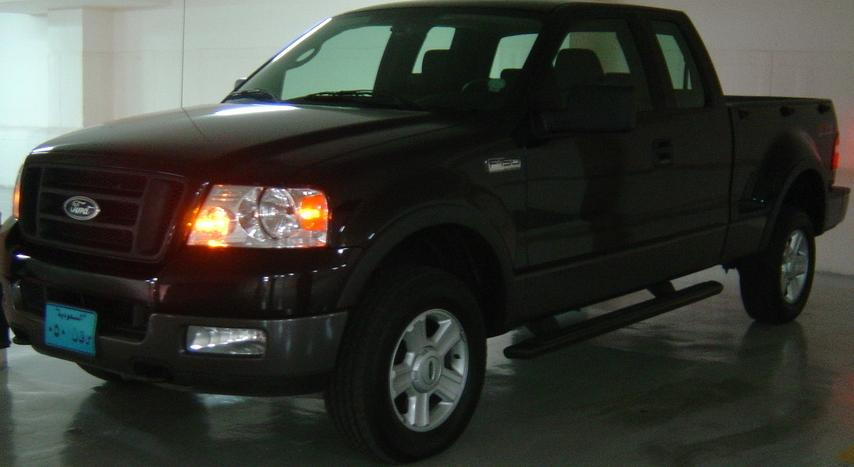front_view: (7, 161, 392, 397)
headlight: (130, 164, 366, 274)
side_glass: (550, 22, 736, 131)
